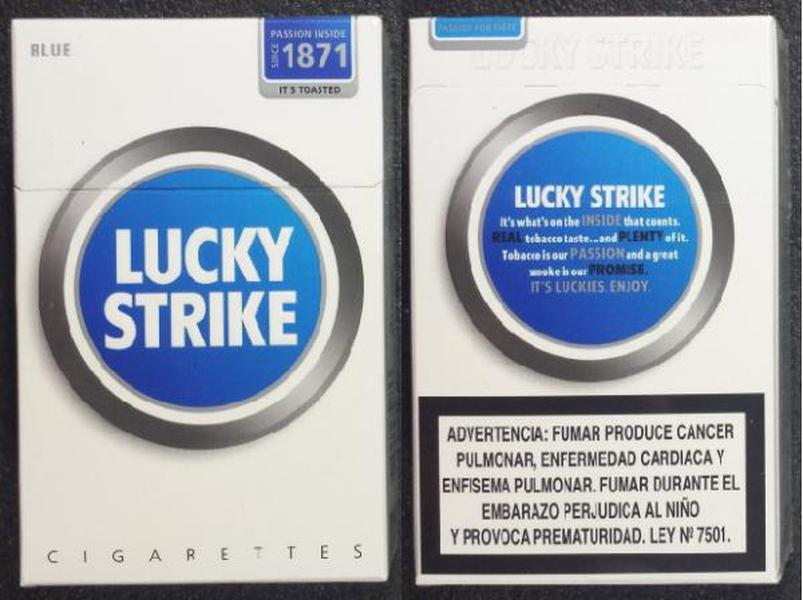lucky_strike_blue: (409, 19, 777, 584), (20, 19, 383, 580)
